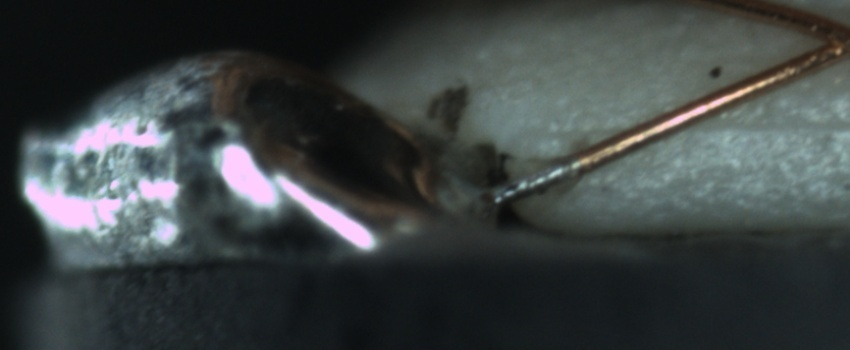CL: (796, 7, 849, 66)
DL: (554, 94, 850, 155)
TS: (491, 159, 577, 206)
